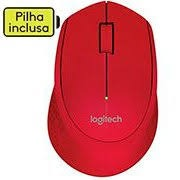mouse: (40, 3, 171, 180)
